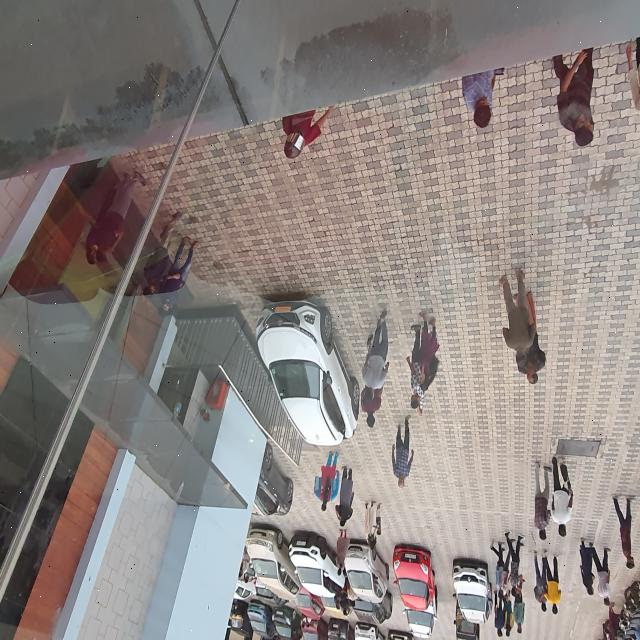humans: (545, 48, 604, 149), (495, 256, 535, 366), (455, 64, 507, 145), (271, 109, 336, 165), (412, 302, 442, 394), (362, 307, 390, 403), (402, 313, 426, 421), (520, 286, 546, 385), (389, 404, 417, 494), (611, 486, 636, 570), (530, 459, 552, 542), (551, 454, 573, 536), (503, 525, 527, 597), (360, 379, 386, 431), (576, 534, 596, 598), (543, 549, 561, 617), (532, 548, 550, 614), (594, 543, 611, 607), (489, 540, 505, 598), (515, 578, 528, 635), (499, 543, 511, 603), (502, 594, 515, 638)
